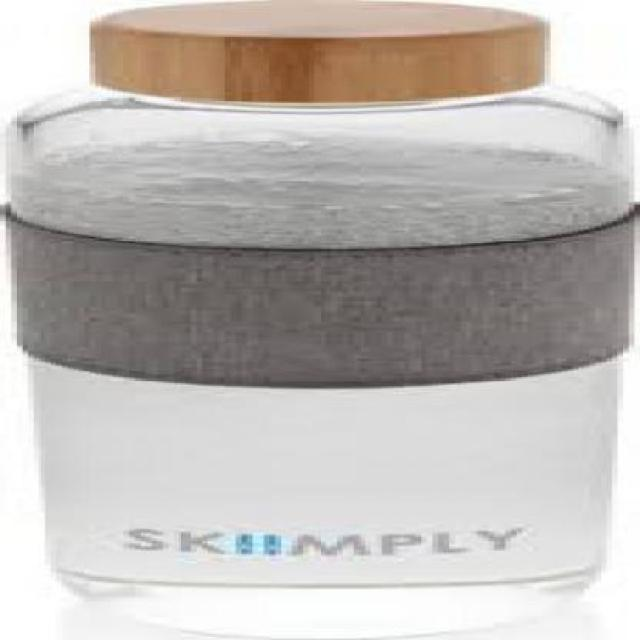kaca: (6, 86, 619, 585)
